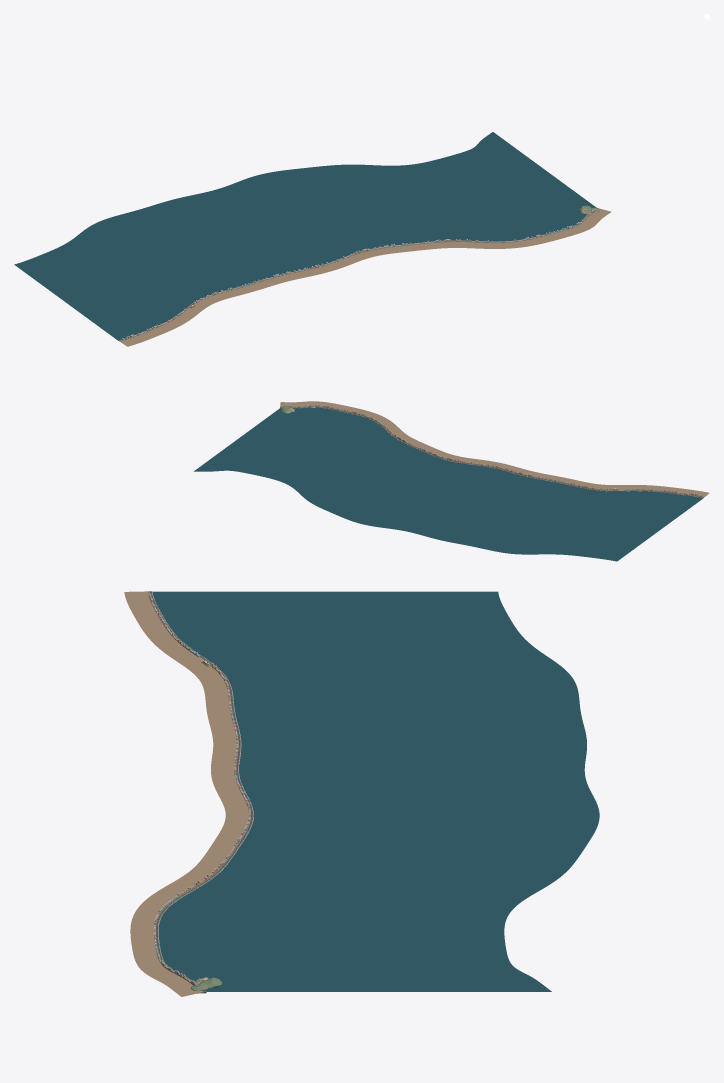
The model's file is havana.glb.
The picture shows the model from 3 angles, top to bottom: view 1: azimuth 30°, elevation 25°; view 2: azimuth 150°, elevation 25°; view 3: azimuth 270°, elevation 25°; orthographic projection. The views are drawn at different scales.
Visible parts, largest first — view 1: FloridaStraits, Land_008, Land_007; view 2: FloridaStraits, Land_008, Land_007, Land_004, Land_000, Land_003, Land_001, Land_002, Land_005, Land_006; view 3: FloridaStraits, Land_008, Land_007, Land_000, Land_004, Land_001, Land_003, Land_006, Land_002, Land_005, Land_009.
Boxes of the visible parts, x1,y1,x2,y2 form: FloridaStraits: (14,132,596,340); Land_008: (532,222,594,244); Land_007: (469,237,538,248); FloridaStraits: (194,407,702,561); Land_008: (311,401,365,415); Land_007: (359,410,400,431); Land_004: (461,457,515,471); Land_000: (653,485,709,497); Land_003: (509,467,559,482); Land_001: (602,484,655,491); Land_002: (555,477,603,490); Land_005: (420,446,465,463); Land_006: (390,430,429,449); FloridaStraits: (152,591,599,991); Land_008: (130,923,168,974); Land_007: (130,880,198,925); Land_000: (124,591,174,637); Land_004: (211,758,250,805); Land_001: (149,632,222,676); Land_003: (208,713,241,759); Land_006: (176,843,239,887); Land_002: (197,670,235,717); Land_005: (213,802,253,846); Land_009: (148,967,205,996).
Bounding box in the file's own units: 12603 × 1149 × 4399.
